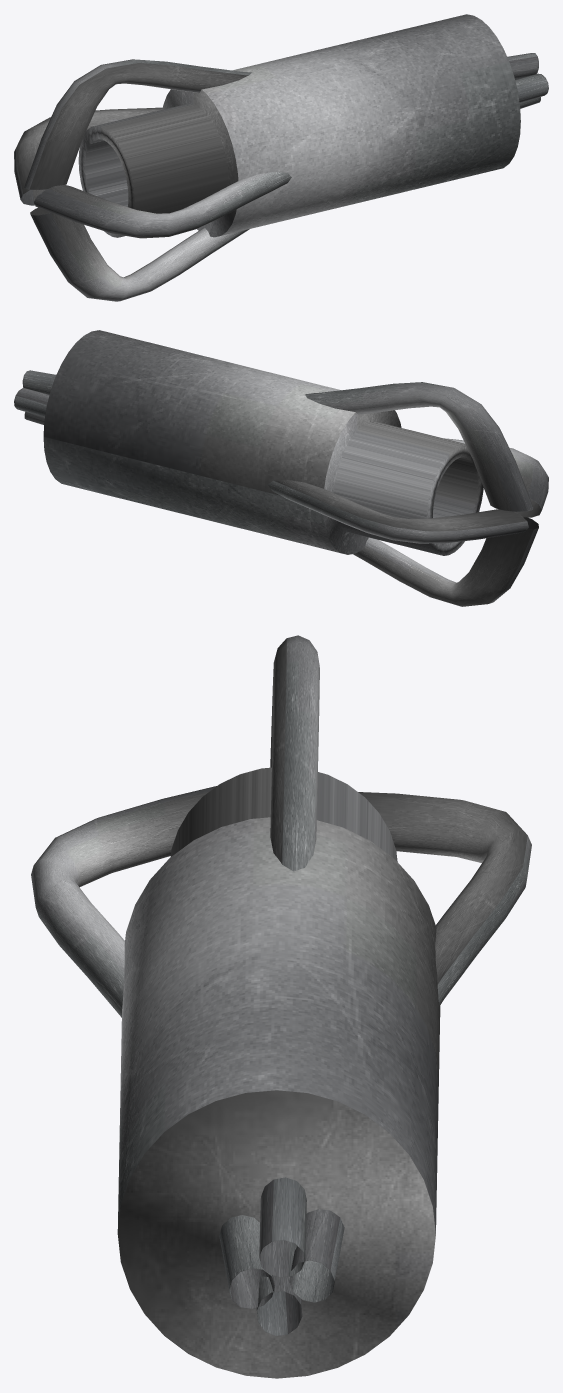
The model's file is pieza14.fbx.
3 renders of one model, top to bottom at view 1: azimuth 30°, elevation 25°; view 2: azimuth 150°, elevation 25°; view 3: azimuth 270°, elevation 25°, orthographic. The views are drawn at different scales.
Parts seen in each view (by area): view 1: BezierCurve.002; view 2: BezierCurve.002; view 3: BezierCurve.002.
Part boxes in pixels (x1,y1,x2,y2): BezierCurve.002: (14,14,548,301); BezierCurve.002: (14,330,548,606); BezierCurve.002: (31,635,531,1378).
Bounding box in the file's own units: 407 × 173 × 174.
5 materials, 5 textured.
